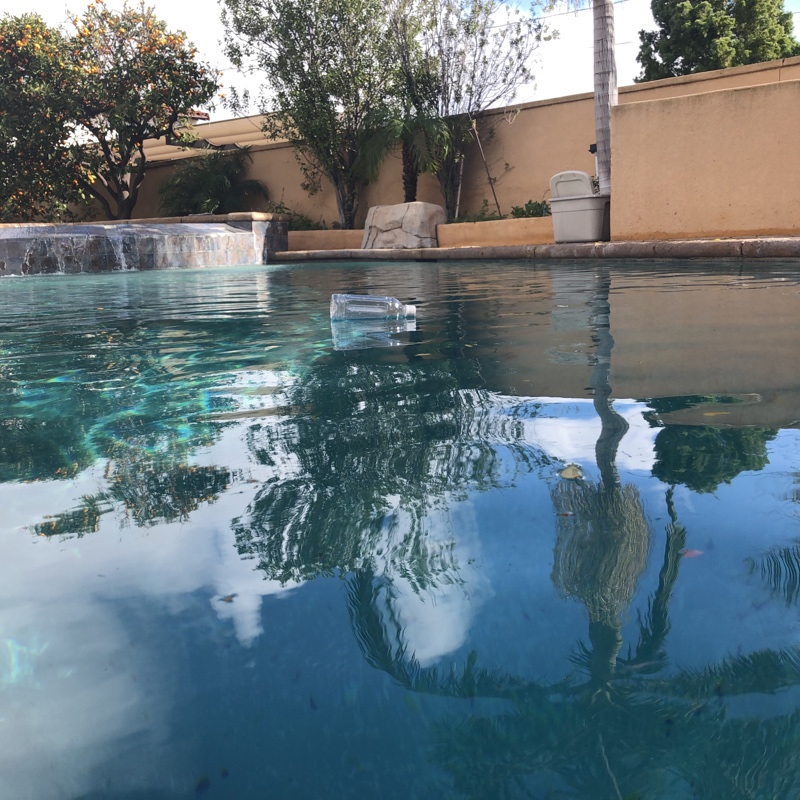Plastic Bottle: (327, 289, 419, 321)
